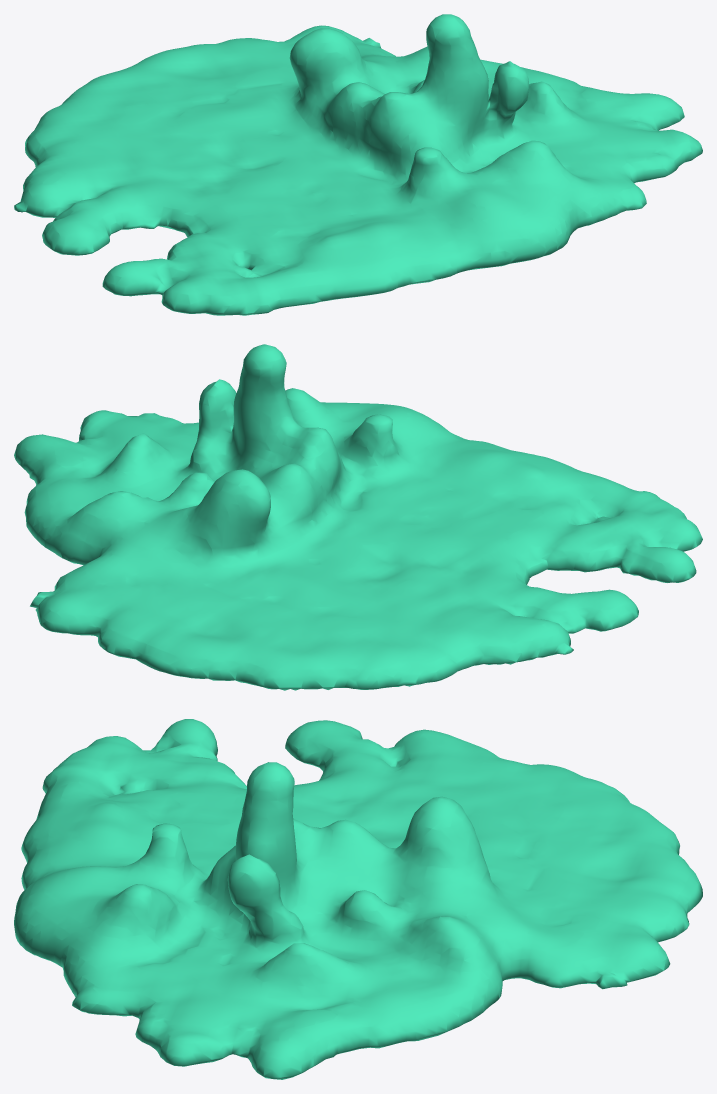
3 renders of one model, top to bottom at view 1: azimuth 30°, elevation 25°; view 2: azimuth 150°, elevation 25°; view 3: azimuth 270°, elevation 25°, orthographic. The views are drawn at different scales.
Parts seen in each view (by area): view 1: Liquid_Domain; view 2: Liquid_Domain; view 3: Liquid_Domain.
Boxes of the visible parts, x1=… form: Liquid_Domain: x1=14, y1=14, x2=702, y2=315; Liquid_Domain: x1=14, y1=344, x2=702, y2=690; Liquid_Domain: x1=14, y1=719, x2=702, y2=1079.
Size of the model in its own units: 13.25 by 3.35 by 11.14.
